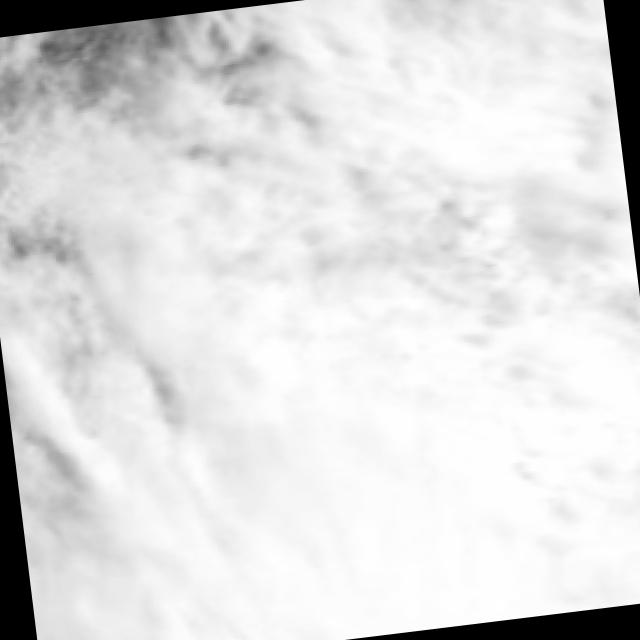CB: (198, 301, 640, 640), (361, 40, 594, 202)
